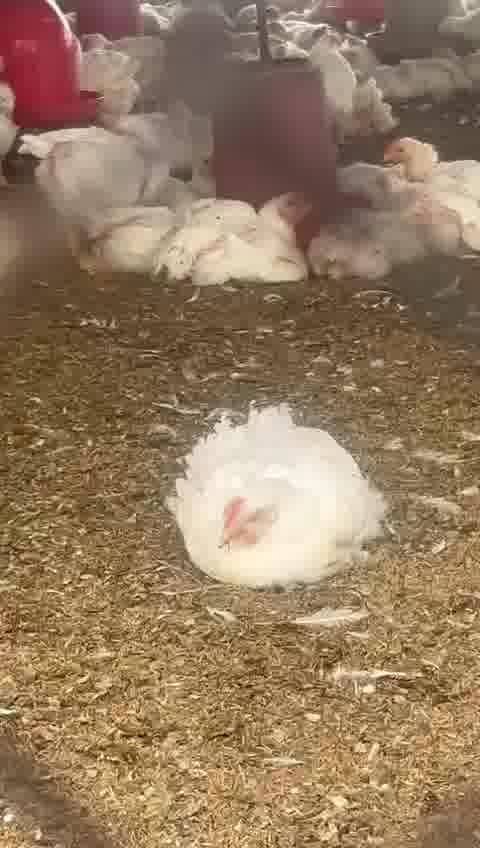AbNormal: (175, 397, 374, 579), (382, 130, 480, 241)
